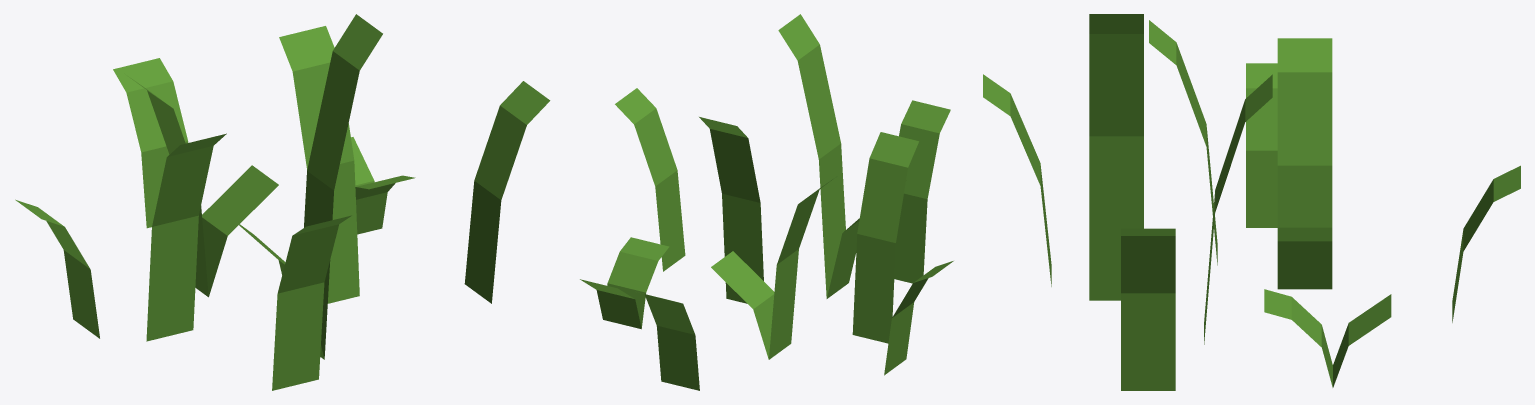
Rendered from grass_tuft.glb.
The picture shows the model from 3 angles, left to right: view 1: azimuth 30°, elevation 25°; view 2: azimuth 150°, elevation 25°; view 3: azimuth 270°, elevation 25°; orthographic projection. The views are drawn at different scales.
Visible parts, largest first — view 1: grass; view 2: grass; view 3: grass.
Part boxes in pixels (x1,y1,x2,y2): grass: (15, 14, 550, 390); grass: (580, 14, 953, 390); grass: (983, 14, 1520, 390).
Bounding box in the file's own units: 0.6001 × 0.4 × 0.6176.
